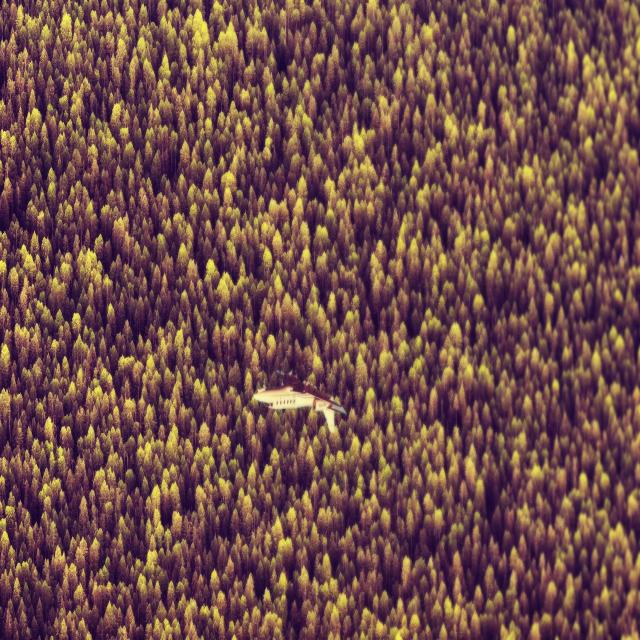airplane: (251, 370, 347, 434)
